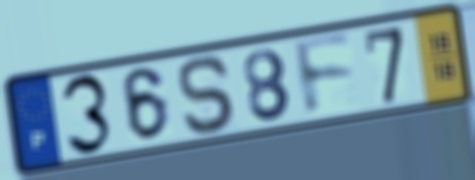3: (55, 71, 114, 158)
6: (120, 66, 173, 144)
7: (361, 25, 407, 107)
8: (242, 47, 293, 123)
F: (290, 31, 357, 121)
S: (176, 52, 240, 137)
